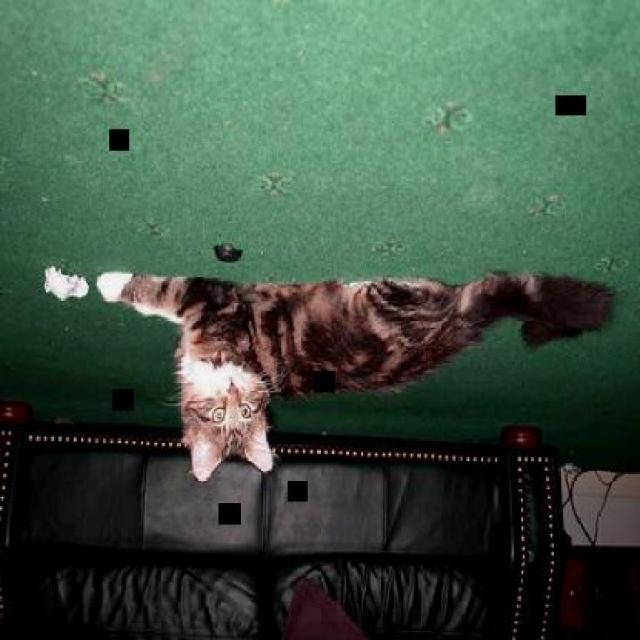cat: (95, 270, 612, 482)
